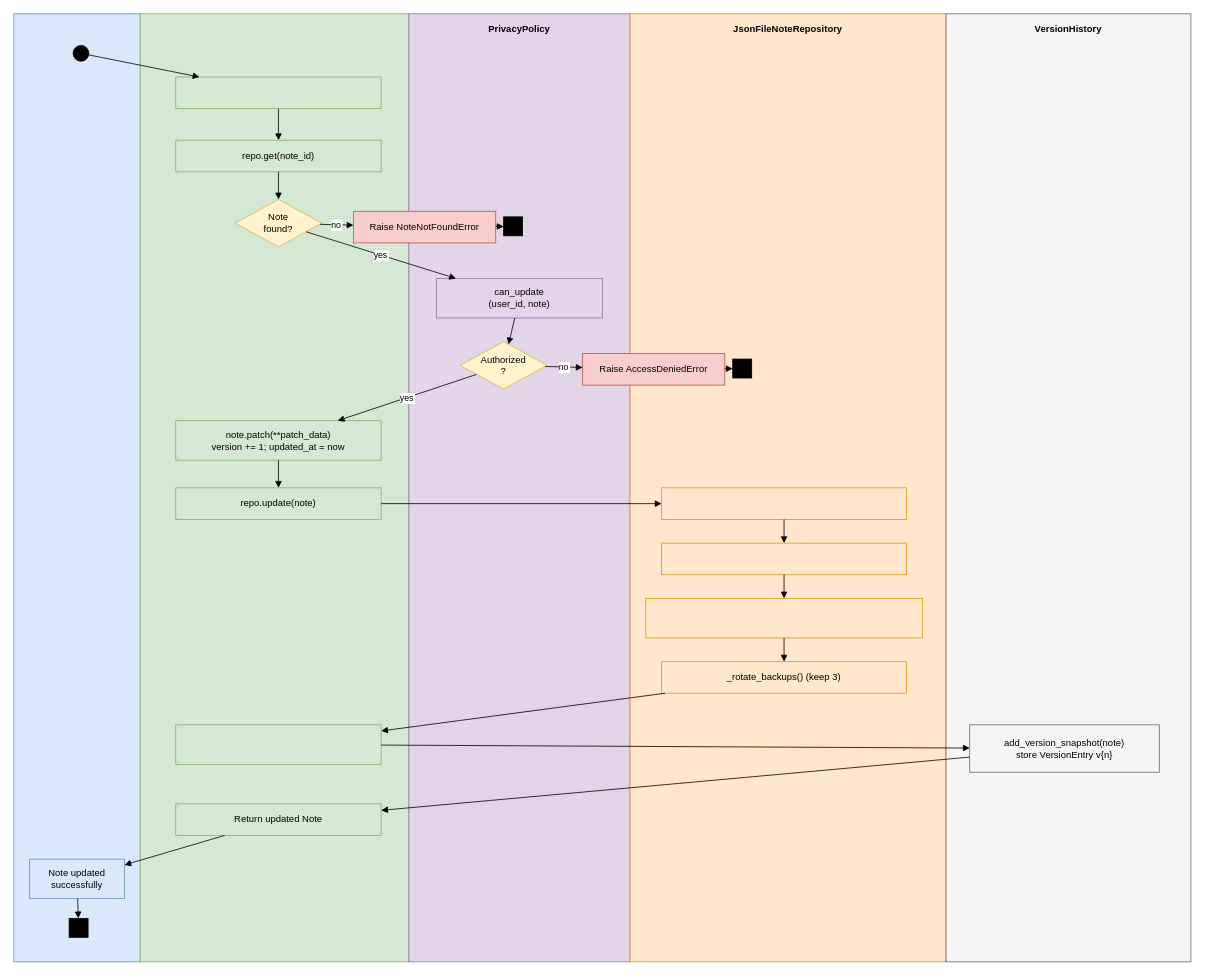
Some shapes in this 1205 by 976 pixel diagram are drawn without their labels. The shapes that lost their labels are listed below. From the top down, each one's box as (x1, y1, x2, y2) in pixels, then its label:
(175, 76, 381, 109): Receive update_note (user_id, note_id, **patch)
(13, 13, 140, 962): User
(139, 13, 409, 962): NoteService
(661, 487, 907, 519): _load() current JSON from disk
(661, 542, 907, 575): Replace note in notes list
(645, 598, 922, 638): Write temp → fsync → os.replace
(175, 724, 381, 764): history.add_entry (note, "update", actor_id)
